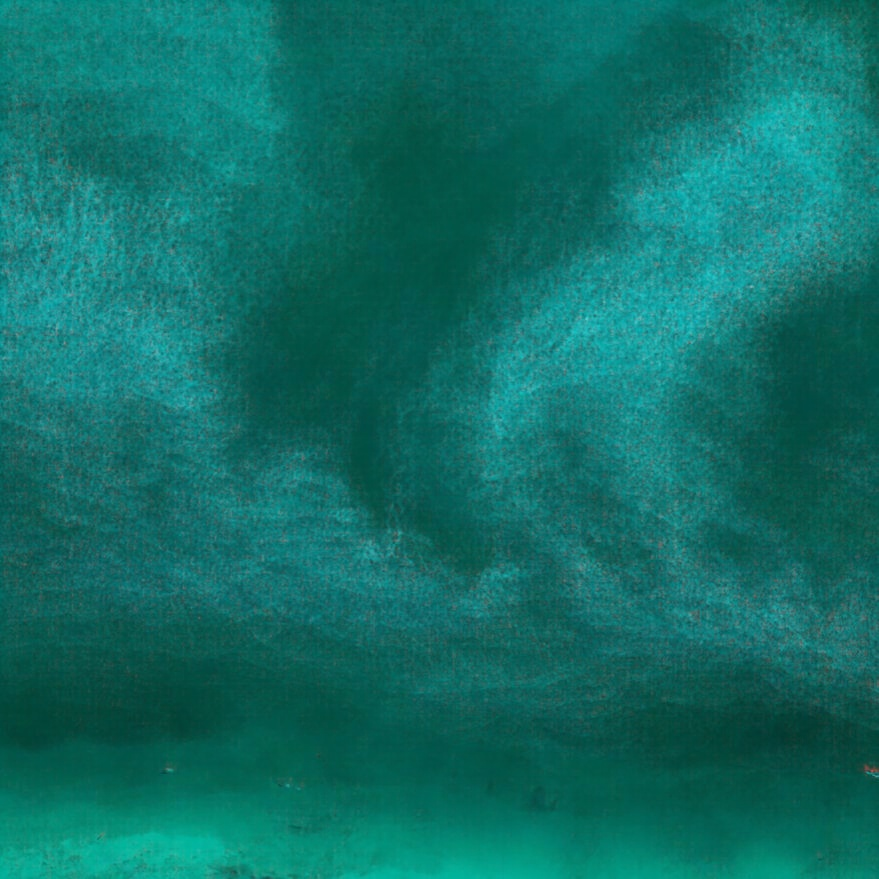rip_current: (210, 68, 564, 614)
